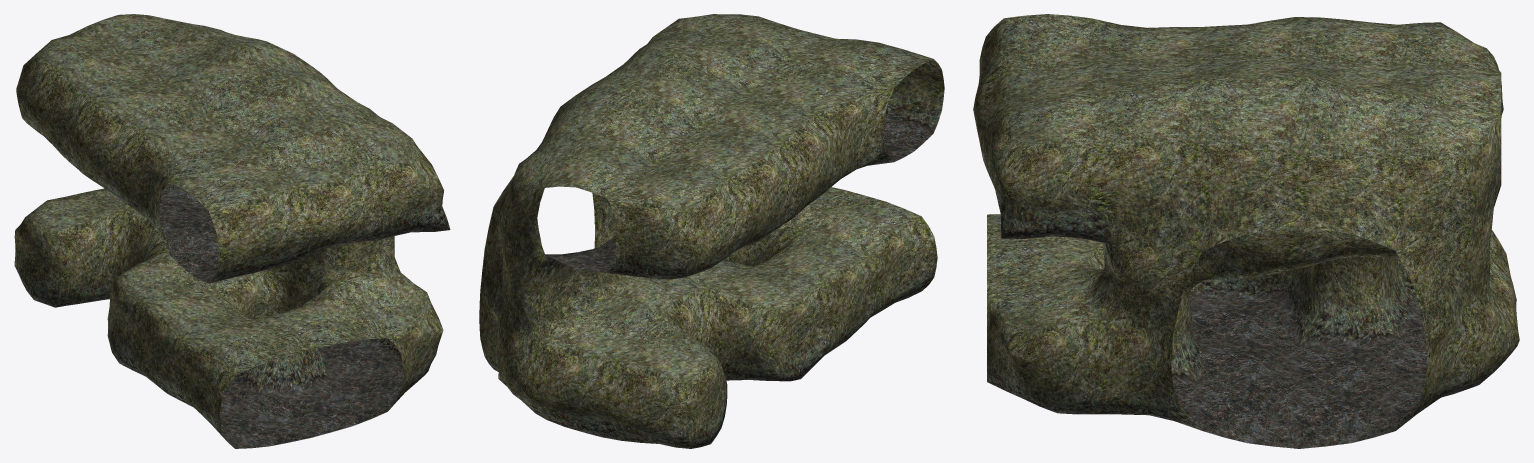
Rendered from thm_all_cave_s03_damprock_mirror_r5_r5.fbx.
The picture shows the model from 3 angles, left to right: view 1: azimuth 30°, elevation 25°; view 2: azimuth 150°, elevation 25°; view 3: azimuth 270°, elevation 25°; orthographic projection. The views are drawn at different scales.
Parts seen in each view (by area): view 1: mesh_node; view 2: mesh_node; view 3: mesh_node.
Part boxes in pixels (x1,y1,x2,y2): mesh_node: (14, 14, 450, 448); mesh_node: (479, 14, 944, 448); mesh_node: (973, 14, 1519, 448).
Size of the model in its own units: 26.95 by 28.15 by 43.27.
